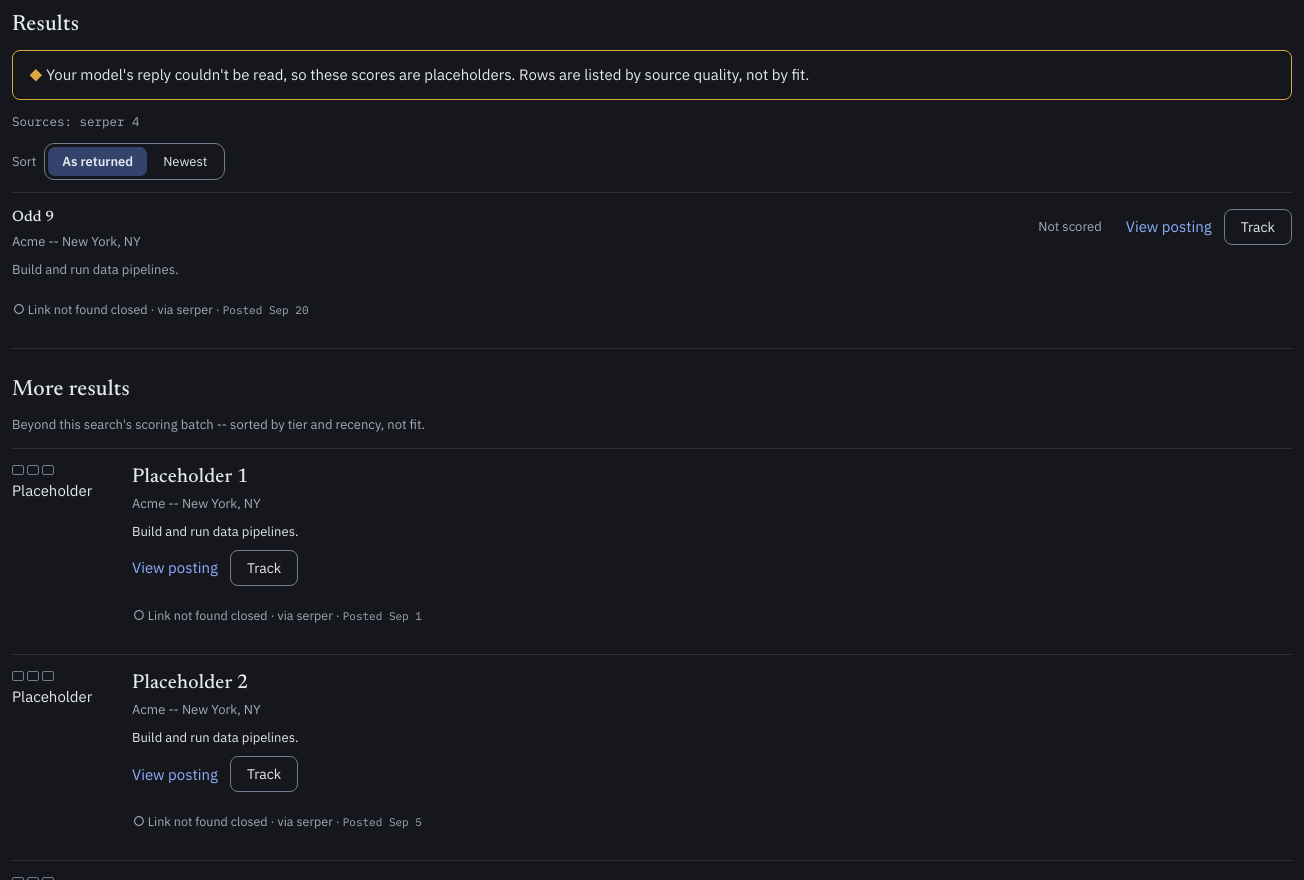
Test: the fallback notice follows the rows that are placeholders › draws it for a placeholder row in More results even when the scored list holds none, and speaks for that list's order
Click the button "Newest" at [185, 162], box [149,147,221,176]
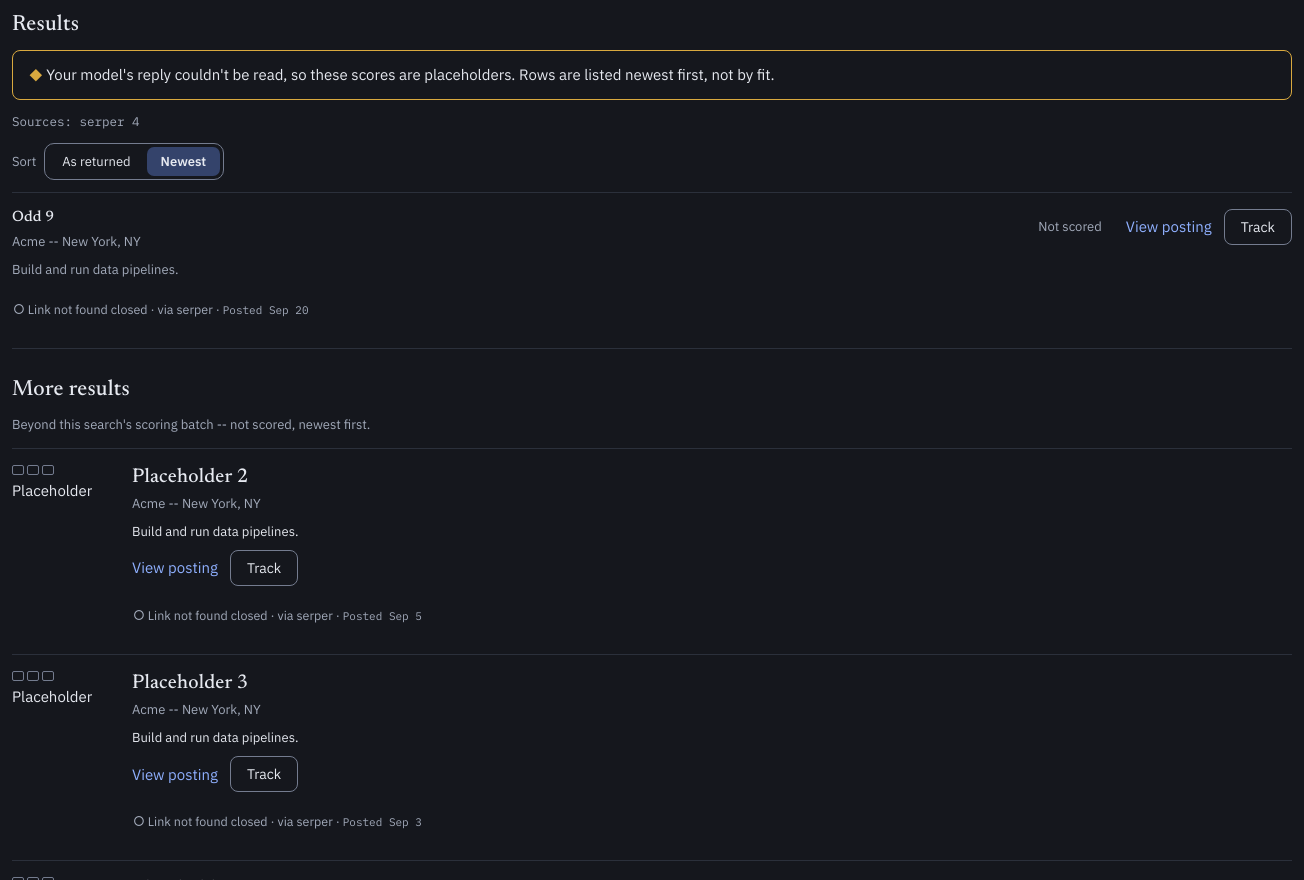
Now the element with class "bj-disc-fallback" shows "Rows are listed newest first, not by fit.", box [519,65,775,84]
